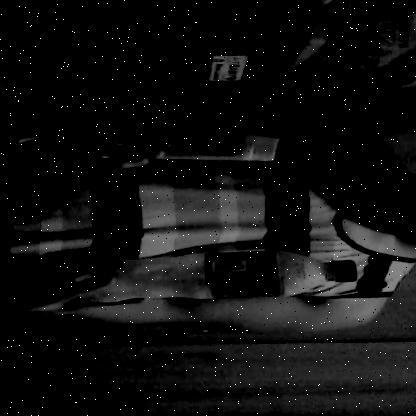Plastic Bottle: (65, 245, 372, 311)
